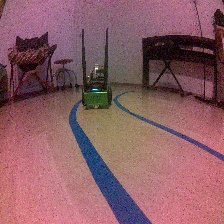rob: (80, 68, 112, 110)
